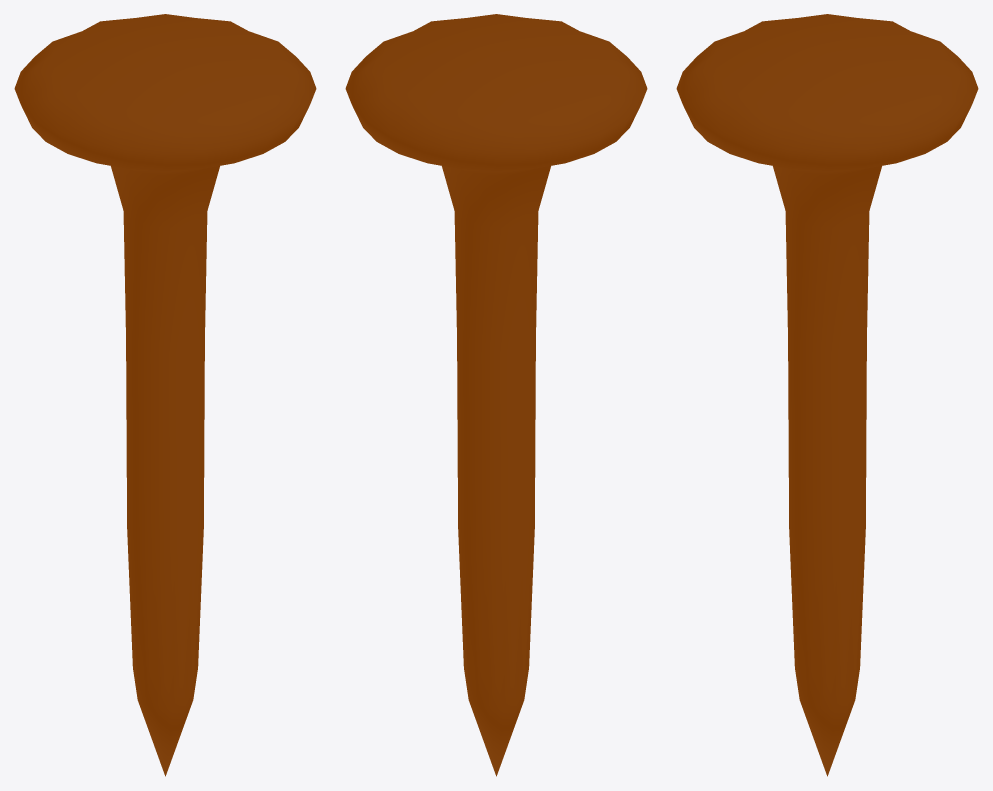
Rendered from chain-pin.gltf.
The picture shows the model from 3 angles, left to right: view 1: azimuth 30°, elevation 25°; view 2: azimuth 150°, elevation 25°; view 3: azimuth 270°, elevation 25°; orthographic projection.
Visible parts, largest first — view 1: ChainPinMesh; view 2: ChainPinMesh; view 3: ChainPinMesh.
Part boxes in pixels (x1,y1,x2,y2): ChainPinMesh: (14, 14, 316, 776); ChainPinMesh: (345, 14, 647, 776); ChainPinMesh: (676, 14, 978, 776).
Size of the model in its own units: 0.3655 by 0.966 by 0.3655.
